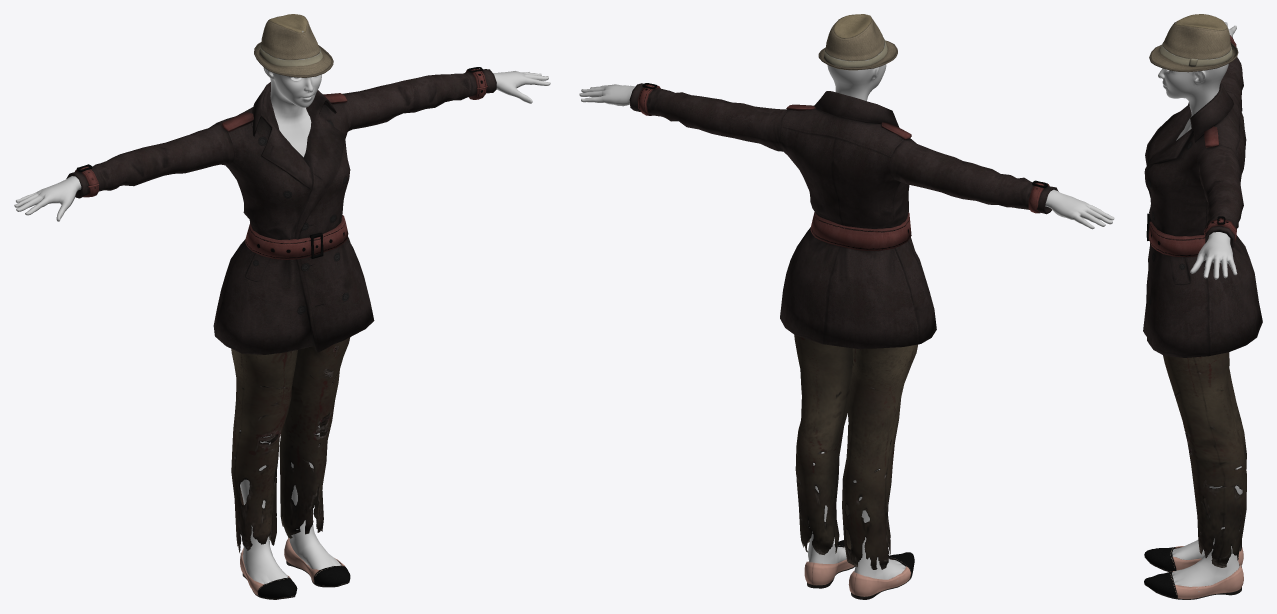
3 renders of one model, left to right at view 1: azimuth 30°, elevation 25°; view 2: azimuth 150°, elevation 25°; view 3: azimuth 270°, elevation 25°, orthographic.
Visible parts, largest first — view 1: Tops, Bottoms, Body, Hats, Shoes; view 2: Tops, Bottoms, Body, Hats, Shoes; view 3: Tops, Bottoms, Body, Hats, Shoes.
Boxes of the visible parts, bbox=[...] form: Tops: bbox=[66, 67, 496, 354]; Bottoms: bbox=[231, 337, 350, 553]; Body: bbox=[14, 67, 550, 584]; Hats: bbox=[254, 14, 333, 77]; Shoes: bbox=[240, 538, 350, 599]; Tops: bbox=[629, 83, 1058, 348]; Bottoms: bbox=[794, 335, 917, 569]; Body: bbox=[579, 64, 1114, 580]; Hats: bbox=[818, 14, 897, 70]; Shoes: bbox=[804, 540, 914, 599]; Tops: bbox=[1143, 35, 1262, 357]; Bottoms: bbox=[1163, 352, 1246, 567]; Body: bbox=[1158, 22, 1242, 591]; Hats: bbox=[1149, 14, 1238, 72]; Shoes: bbox=[1144, 546, 1243, 599].
Bounding box in the file's own units: 179 × 180 × 34.97.
